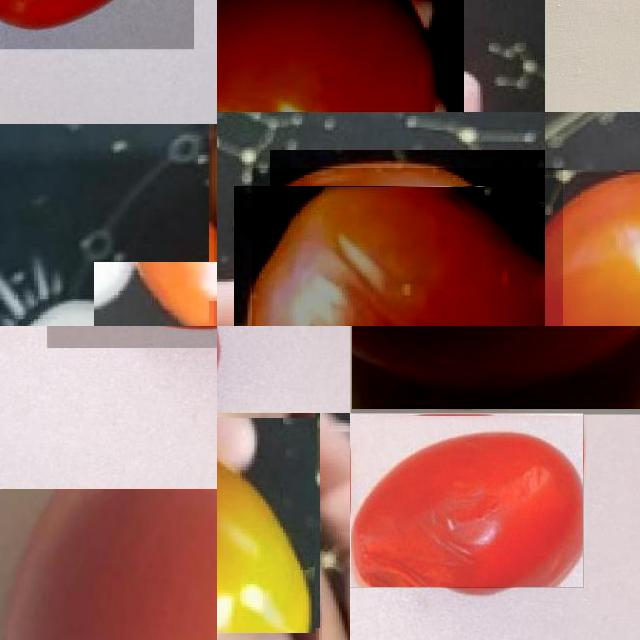0: (217, 0, 464, 112)
1: (252, 167, 562, 326)
Fresh Tomato: (0, 489, 217, 640), (351, 326, 640, 414), (94, 262, 217, 326)
Rotten Tomato: (350, 413, 583, 587), (217, 413, 315, 633)
